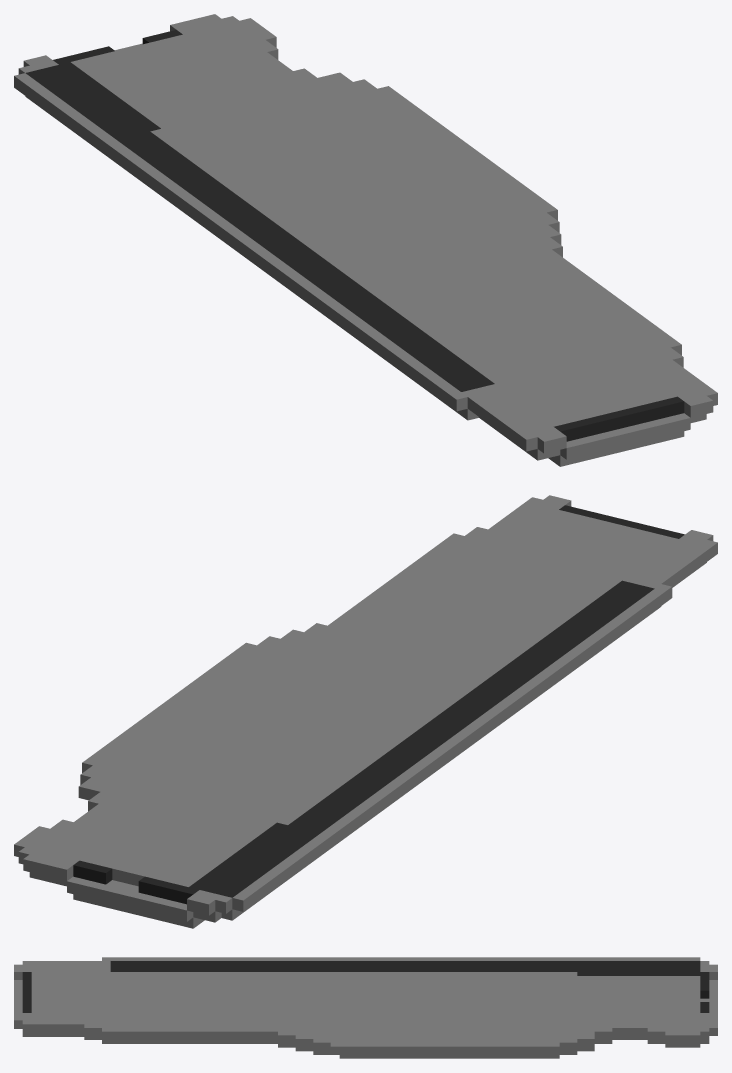
Rendered from CanonXother-2-DualStriker_BottomShell_R.obj.
3 views of the same model, one above another, from view 1: azimuth 30°, elevation 25°; view 2: azimuth 150°, elevation 25°; view 3: azimuth 270°, elevation 25° (orthographic). The views are drawn at different scales.
Visible parts, largest first — view 1: DualStriker_BottomShell_R; view 2: DualStriker_BottomShell_R; view 3: DualStriker_BottomShell_R.
Boxes of the visible parts, x1=… form: DualStriker_BottomShell_R: x1=14, y1=14, x2=717, y2=466; DualStriker_BottomShell_R: x1=14, y1=495, x2=717, y2=928; DualStriker_BottomShell_R: x1=14, y1=957, x2=717, y2=1058.
Bounding box in the file's own units: 2.4 × 0.4 × 8.
Materials: 1 (1 with a texture image).
